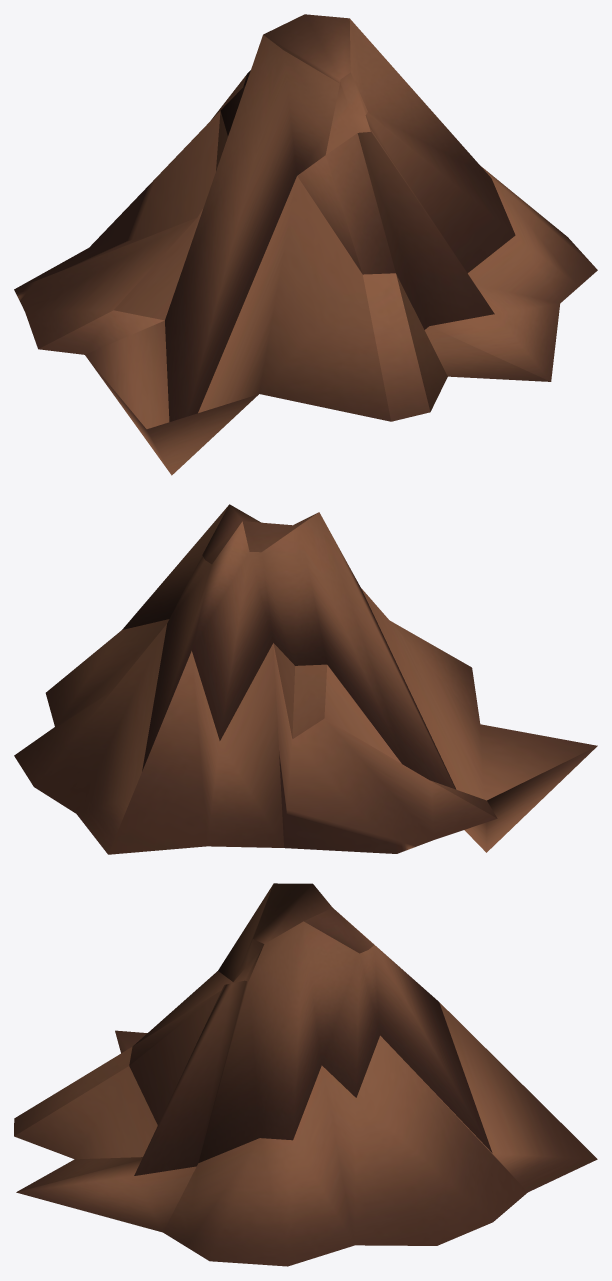
File: fbx_montagne.fbx
3 renders of one model, top to bottom at view 1: azimuth 30°, elevation 25°; view 2: azimuth 150°, elevation 25°; view 3: azimuth 270°, elevation 25°, orthographic. The views are drawn at different scales.
Visible parts, largest first — view 1: pCone1; view 2: pCone1; view 3: pCone1.
Boxes of the visible parts, x1,y1,x2,y2 form: pCone1: [14, 14, 597, 475]; pCone1: [14, 504, 597, 854]; pCone1: [14, 883, 597, 1266].
Bounding box in the file's own units: 6.33 × 4.29 × 6.62.
Materials: 1 (1 with a texture image).
